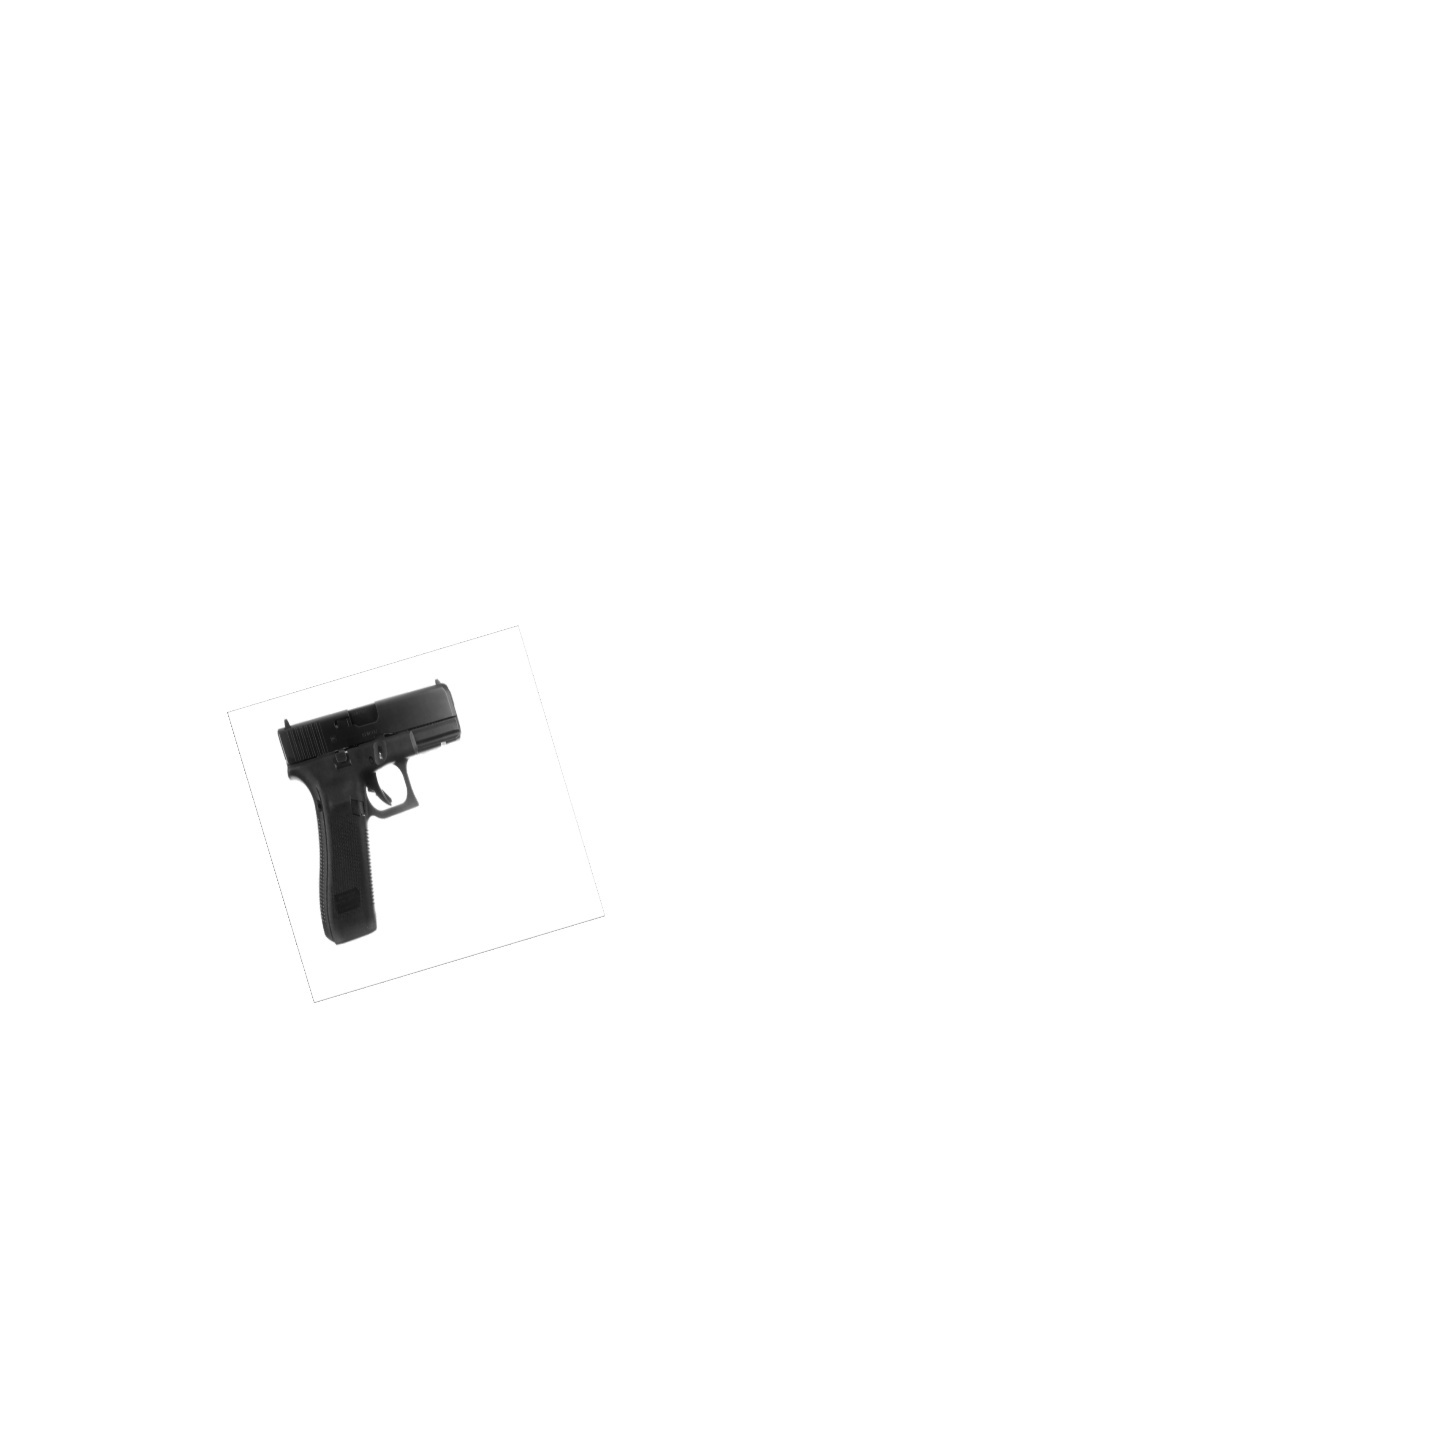gun: (269, 676, 466, 944)
